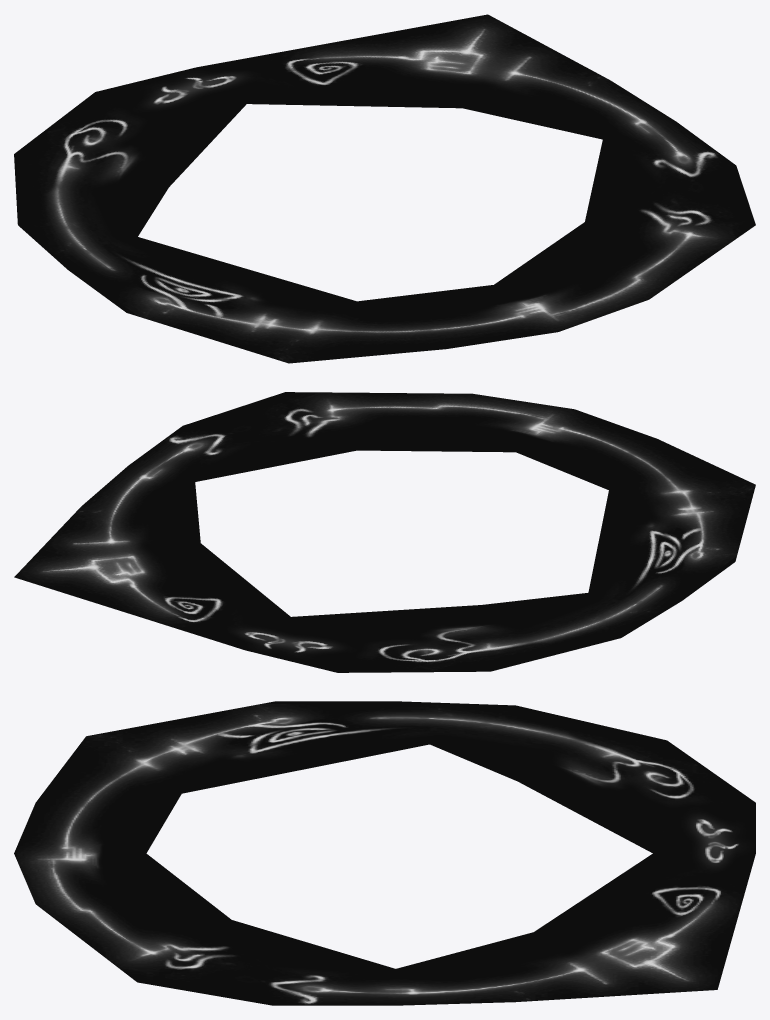
The model's file is fazhen_1.FBX.
3 views of the same model, one above another, from view 1: azimuth 30°, elevation 25°; view 2: azimuth 150°, elevation 25°; view 3: azimuth 270°, elevation 25° (orthographic). The views are drawn at different scales.
Parts seen in each view (by area): view 1: Plane001; view 2: Plane001; view 3: Plane001.
Part boxes in pixels (x1=…): Plane001: x1=14, y1=14, x2=755, y2=363; Plane001: x1=14, y1=392, x2=755, y2=672; Plane001: x1=14, y1=701, x2=755, y2=1005.
Bounding box in the file's own units: 100 × 2.92e-14 × 103.
